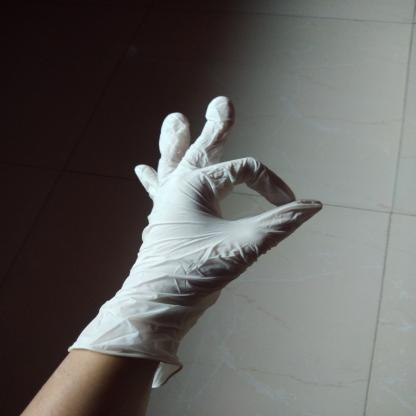gloved_hand: (50, 93, 328, 390)
